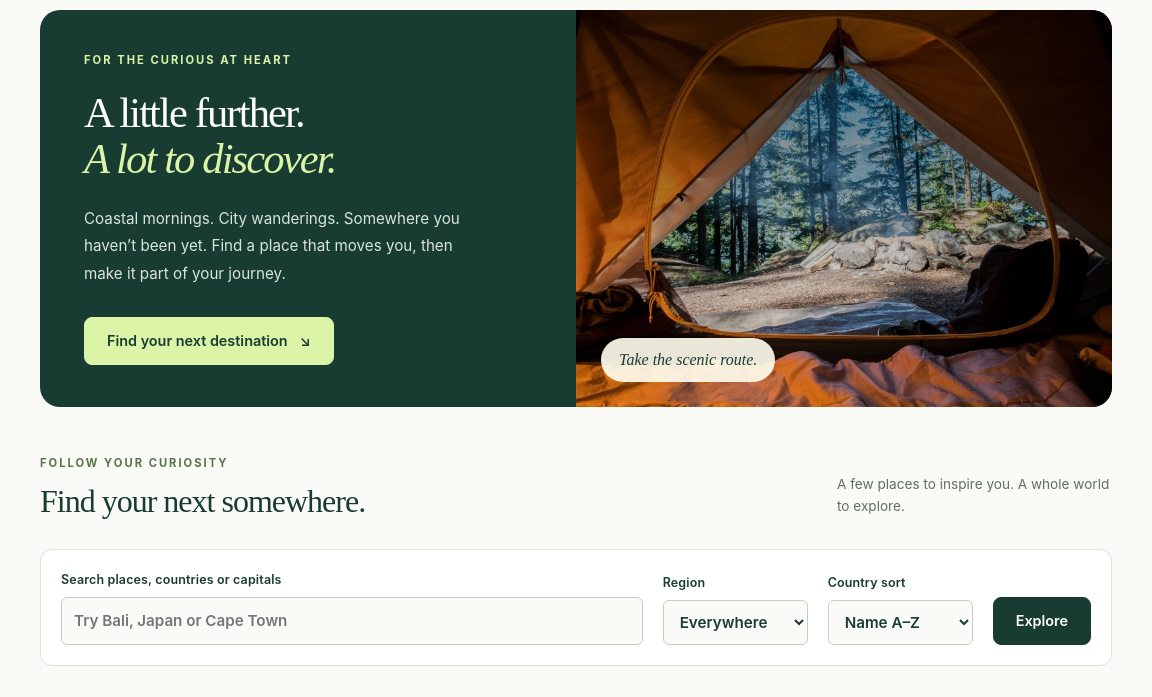
it: retains search text that happens to match the default sort value
Type "name" into the search field labelled "Search places, countries or capitals" at (352, 621), box left=61, top=597, right=643, bottom=645
Then press Enter
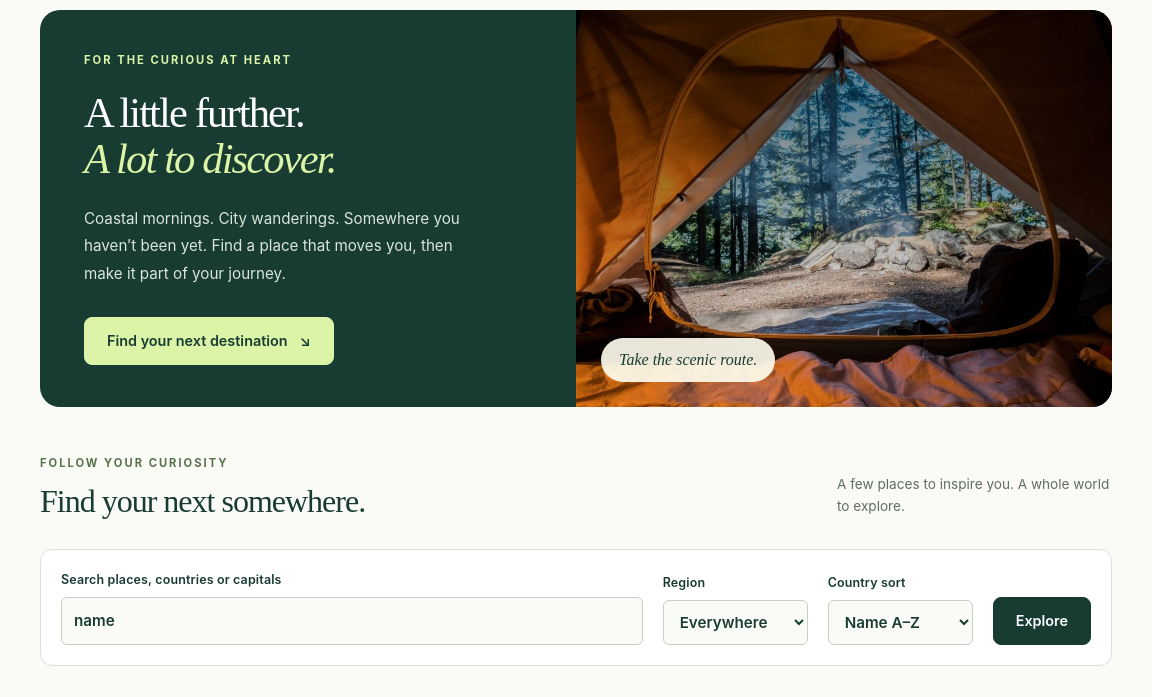
Now the search field labelled "Search places, countries or capitals" holds "name", box left=61, top=597, right=643, bottom=645
